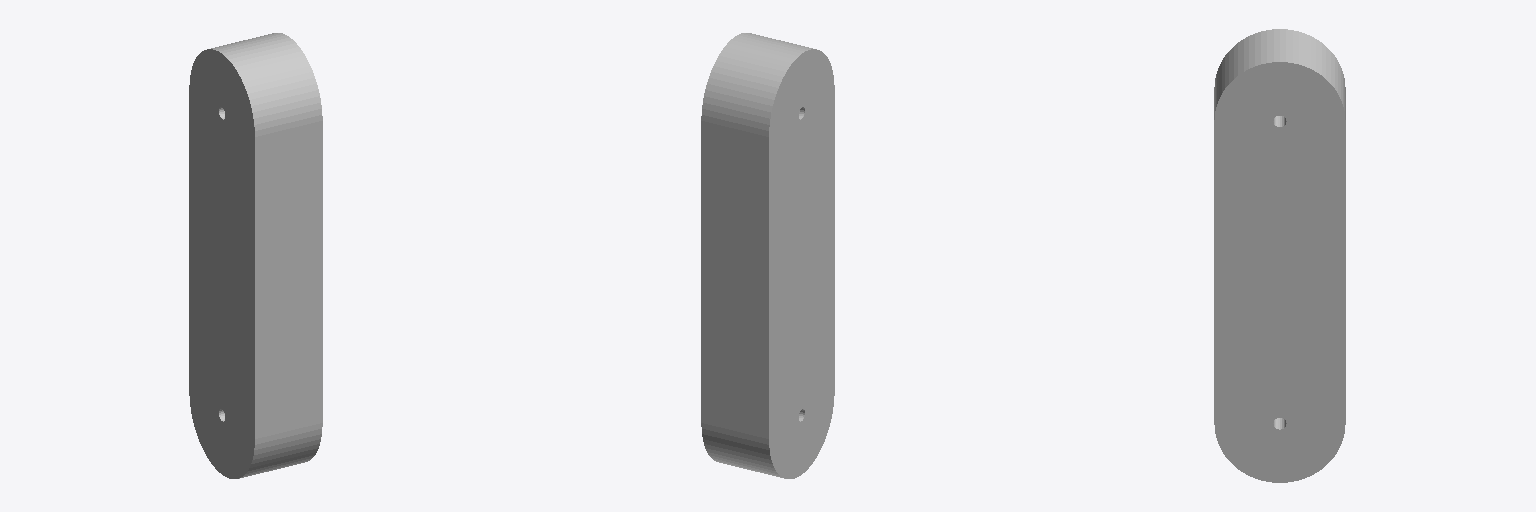
The model's file is brazo_der_frontal.obj.
3 renders of one model, left to right at view 1: azimuth 30°, elevation 25°; view 2: azimuth 150°, elevation 25°; view 3: azimuth 270°, elevation 25°, orthographic.
Parts seen in each view (by area): view 1: Object.1; view 2: Object.1; view 3: Object.1.
Boxes of the visible parts, box(x1,y1,x2,y2) form: Object.1: box(189, 33, 322, 478); Object.1: box(701, 33, 834, 478); Object.1: box(1214, 29, 1345, 482).
Size of the model in its own units: 75 by 446 by 126.